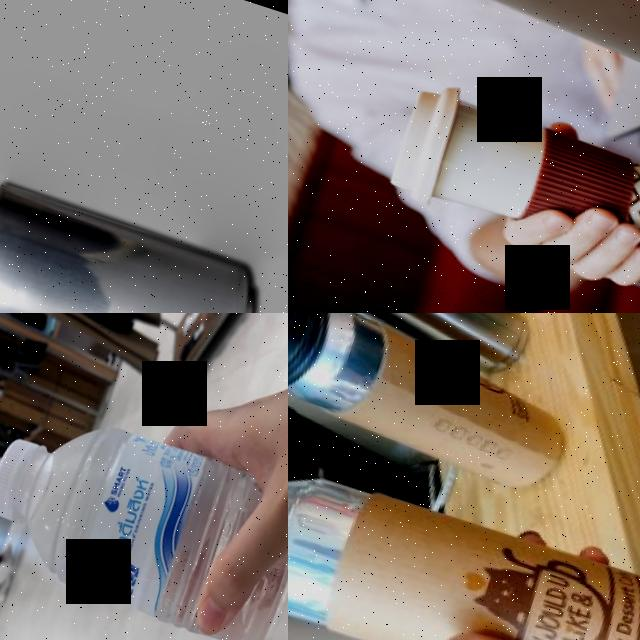bottle: (0, 389, 288, 640)
can: (288, 446, 640, 640), (288, 313, 584, 499), (0, 171, 276, 313), (288, 313, 562, 385)
cup: (384, 73, 640, 285)
